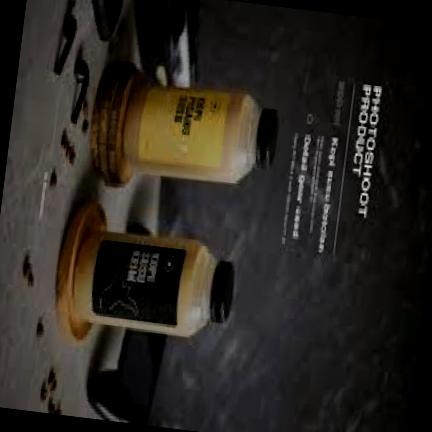container: (72, 230, 231, 334), (119, 76, 276, 181)
fluid: (73, 230, 204, 334), (121, 77, 244, 179)
fluid-surface: (188, 252, 205, 328), (234, 100, 249, 172)
